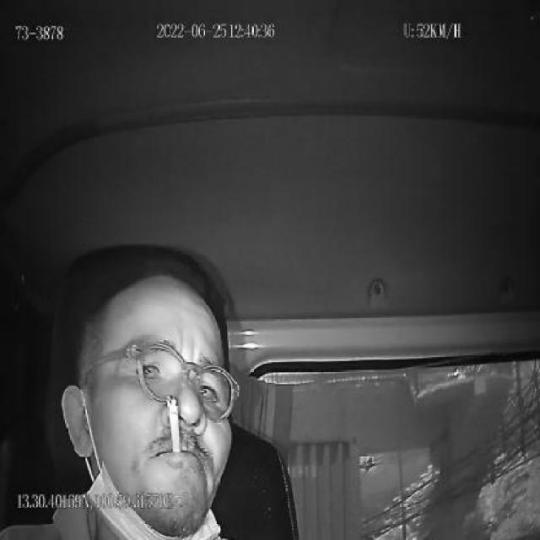smoking: (165, 392, 183, 456)
